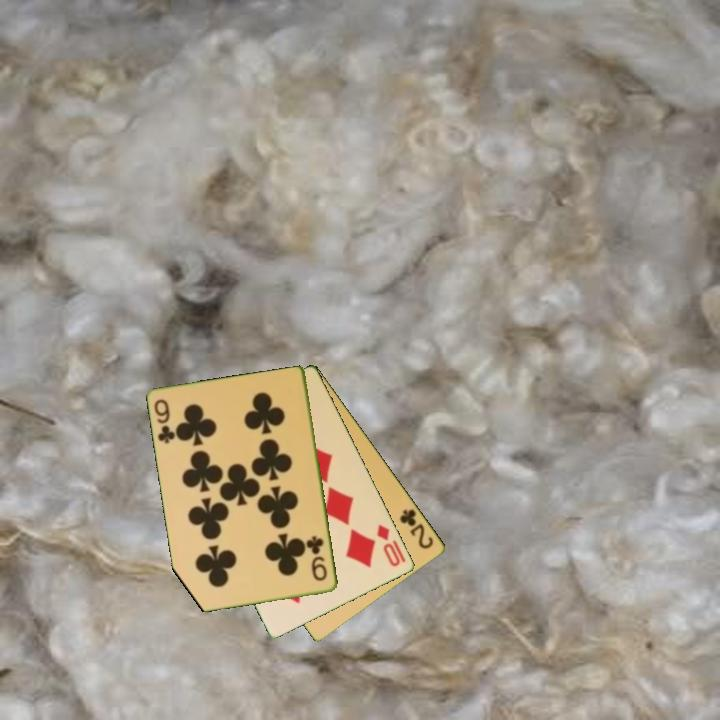10d: (373, 521, 403, 570)
2c: (396, 505, 437, 552)
9c: (151, 396, 178, 447), (305, 532, 330, 584)
